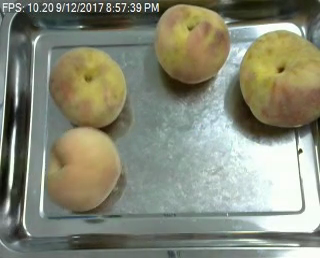Peach: (238, 29, 319, 127), (46, 126, 121, 213), (48, 45, 127, 127), (153, 3, 231, 84)
